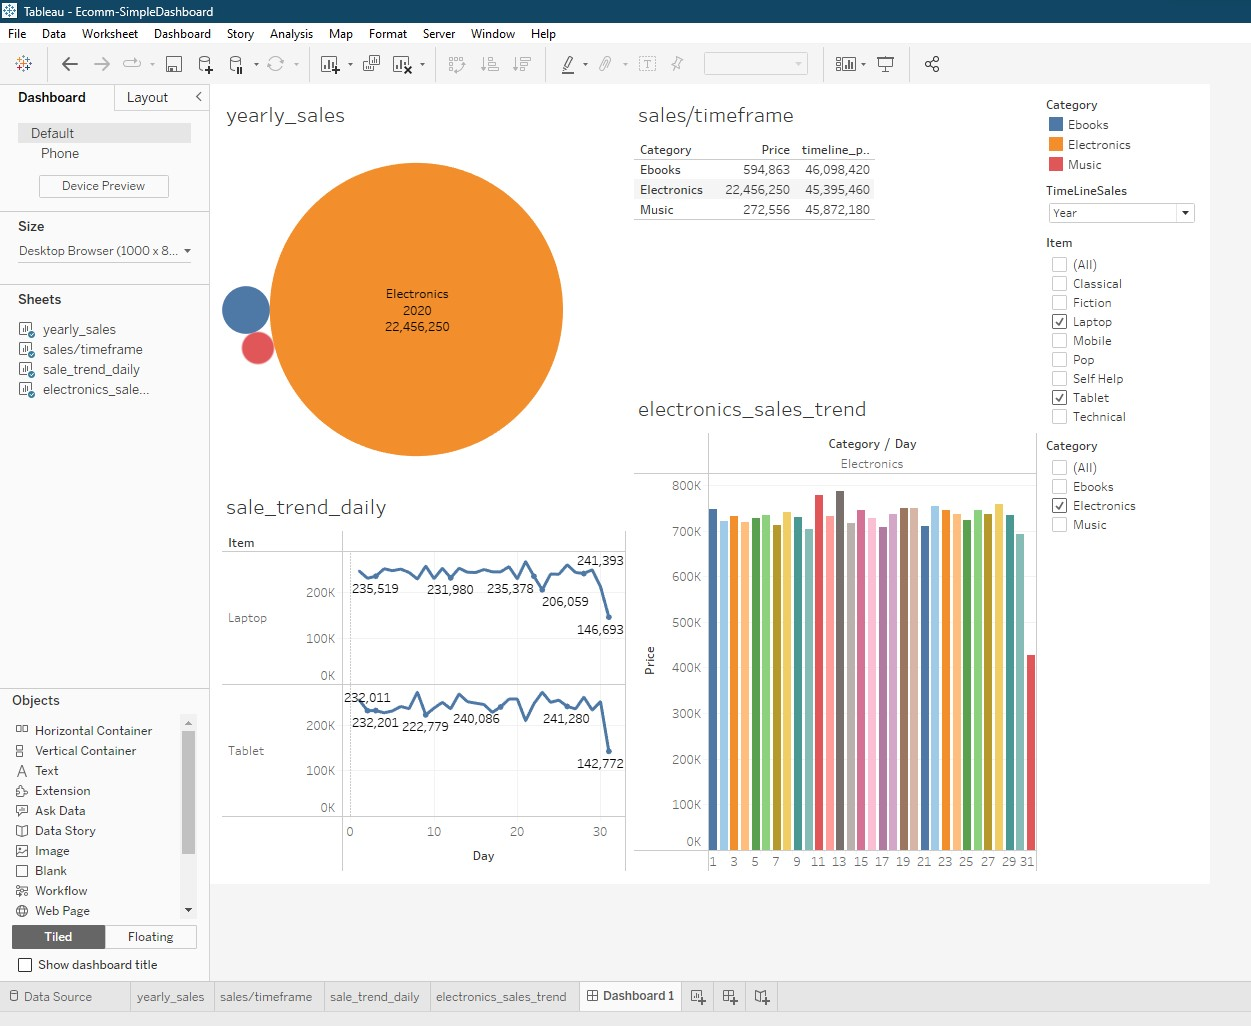

The dashboard page shown, as its layout file describes it:
{"tool":"tableau","page":{"name":"Dashboard 1","canvas":[1000,800],"ordinal":0},"visuals":[{"type":"worksheet","title":"yearly_sales","mark":"Circle","box":[8,8,412,392]},{"type":"worksheet","title":"sales/timeframe","mark":"Automatic","rows":["category"],"box":[420,8,412,294]},{"type":"legend","title":"yearly_sales","param":"[federated.115cypk1err3xy1eveal30y9ltwj].[none:category:nk]","box":[832,8,160,86]},{"type":"parameter","param":"[Parameters].[Parameter 1]","box":[832,94,160,52]},{"type":"filter","title":"sale_trend_daily","param":"[federated.115cypk1err3xy1eveal30y9ltwj].[none:item:nk]","box":[832,146,160,203]},{"type":"worksheet","title":"electronics_sales_trend","mark":"Bar","rows":["price"],"cols":["category","day"],"box":[420,302,412,490]},{"type":"filter","title":"electronics_sales_trend","param":"[federated.115cypk1err3xy1eveal30y9ltwj].[none:category:nk]","box":[832,349,160,108]},{"type":"worksheet","title":"sale_trend_daily","mark":"Automatic","rows":["item","price"],"cols":["day"],"box":[8,400,412,392]}]}

Visuals, with their boxes on the page's 1000x800 design canvas (x1, y1, x2, y2). These are canvas units, not pixel positions in the 1251x1026 screenshot, which may show the page scaled, cropped or inside an application window:
"yearly_sales" worksheet (Circle marks): 8, 8, 420, 400
"sales/timeframe" worksheet: 420, 8, 832, 302
"yearly_sales" legend: 832, 8, 992, 94
parameter: 832, 94, 992, 146
"sale_trend_daily" filter: 832, 146, 992, 349
"electronics_sales_trend" worksheet (Bar marks): 420, 302, 832, 792
"electronics_sales_trend" filter: 832, 349, 992, 457
"sale_trend_daily" worksheet: 8, 400, 420, 792
